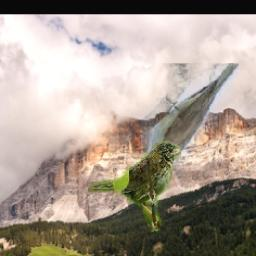Cuckoo: (141, 63, 239, 177)
Sparrow: (88, 141, 181, 233)
